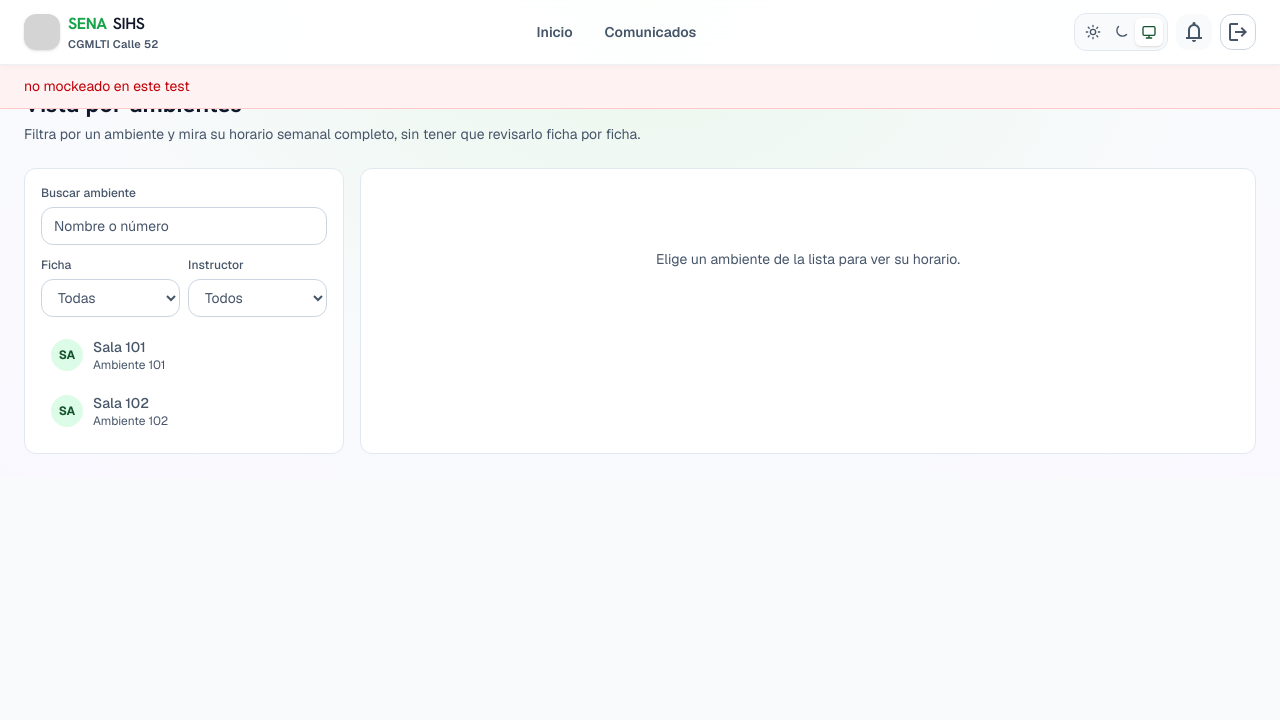
Test: VistaAmbientes › clic en un ambiente muestra su horario y un link "Ver info" al detalle
The width and height of the screenshot is (1280, 720).
What coordinates should you click on to do the following:
click the text "Sala 101"
I would click on:
 (119, 347)
Its box is [93,338,146,356].
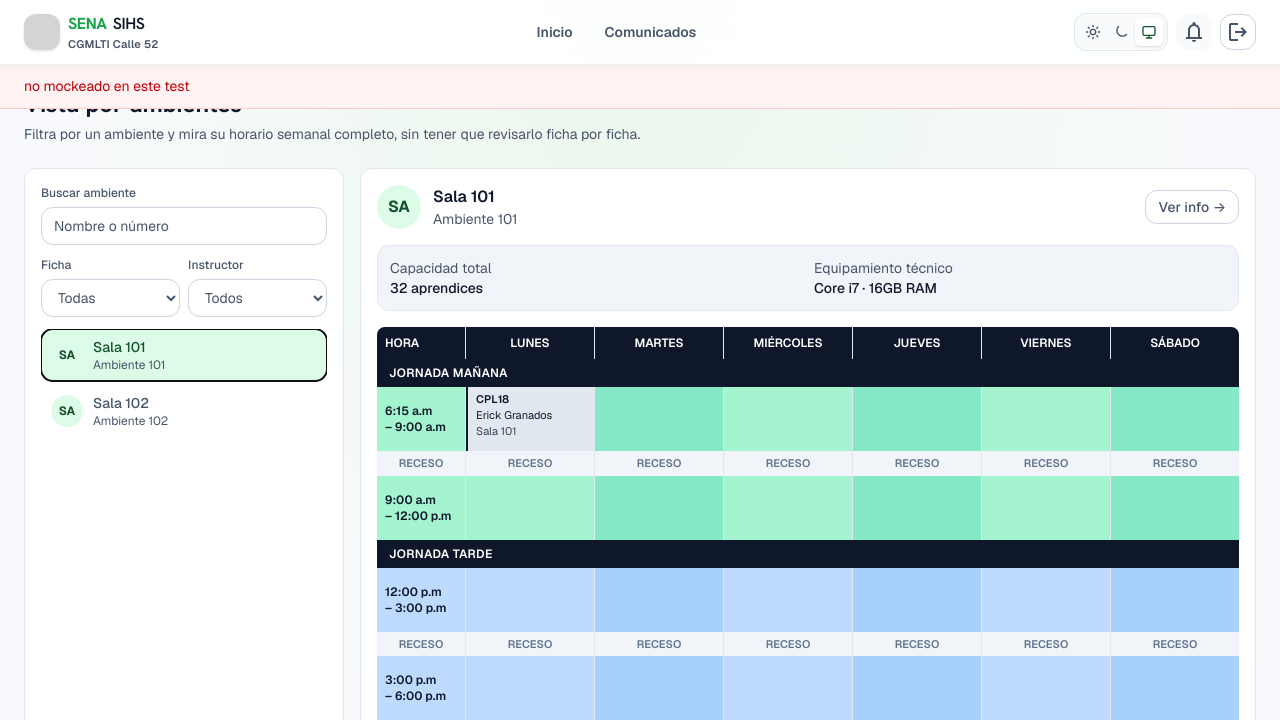
Check: the text "CPL18" is shown, box [476,392,509,406]
